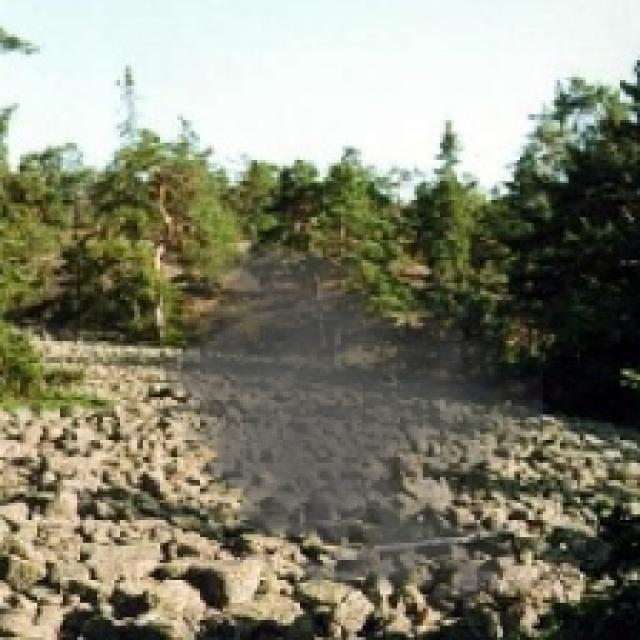Smoke: (146, 237, 543, 614)
